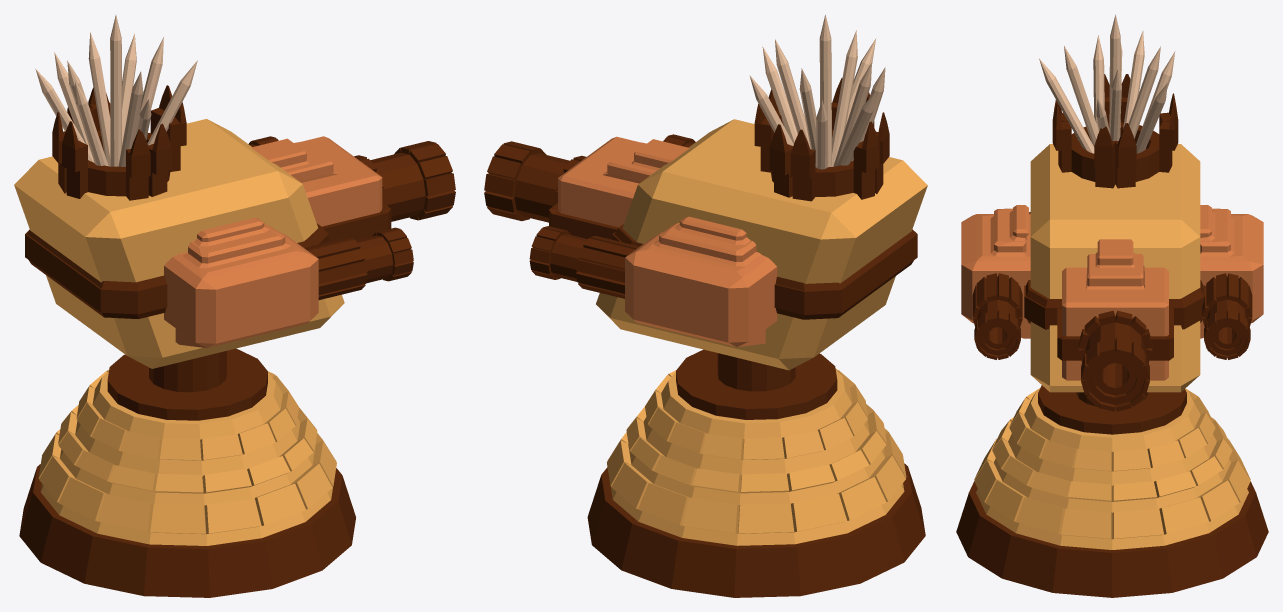
The model's file is kurdanatarlevel4.fbx.
The picture shows the model from 3 angles, left to right: view 1: azimuth 30°, elevation 25°; view 2: azimuth 150°, elevation 25°; view 3: azimuth 270°, elevation 25°; orthographic projection. The views are drawn at different scales.
Visible parts, largest first — view 1: kurdanatar_ust.014, kurdanatar_alt.018; view 2: kurdanatar_ust.014, kurdanatar_alt.018; view 3: kurdanatar_ust.014, kurdanatar_alt.018.
Part boxes in pixels (x1=…): kurdanatar_ust.014: x1=14, y1=15, x2=455, y2=368; kurdanatar_alt.018: x1=19, y1=348, x2=355, y2=597; kurdanatar_ust.014: x1=484, y1=14, x2=927, y2=370; kurdanatar_alt.018: x1=587, y1=349, x2=925, y2=597; kurdanatar_ust.014: x1=961, y1=14, x2=1263, y2=411; kurdanatar_alt.018: x1=956, y1=385, x2=1268, y2=597.
Bounding box in the file's own units: 271 × 344 × 200.
Materials: 3 (3 with a texture image).
